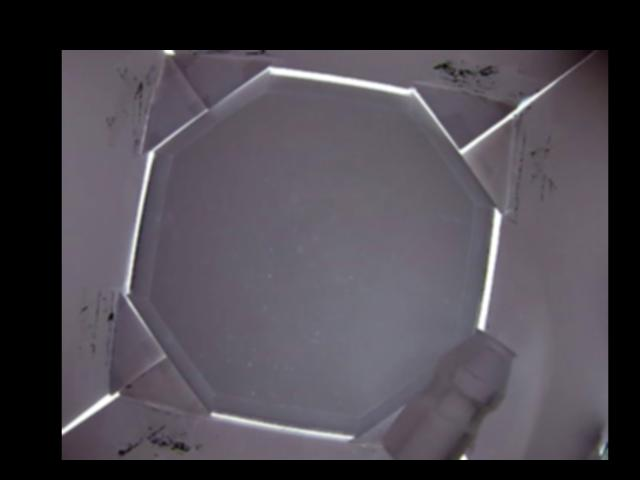Bottle: (379, 329, 519, 459)
